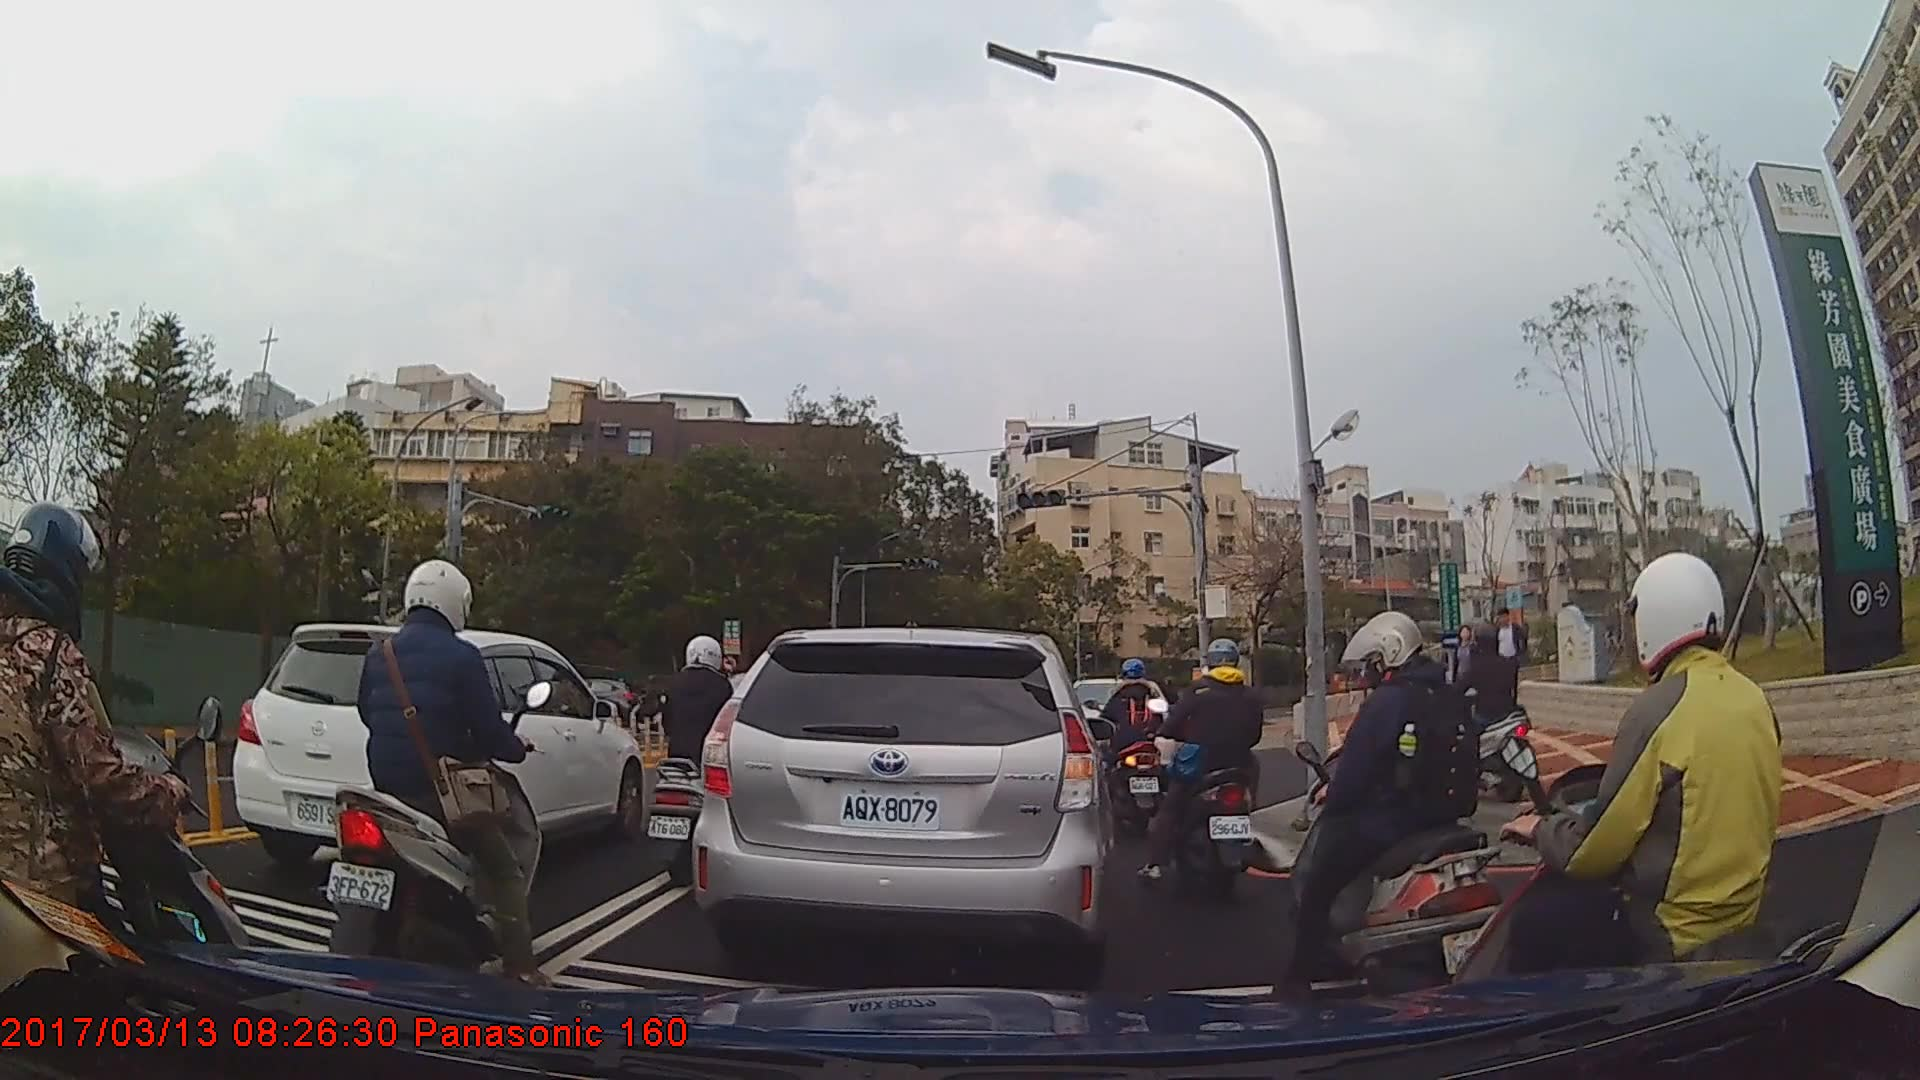pedestrian: (1486, 611, 1531, 725), (1450, 625, 1487, 727)
rider: (1445, 546, 1839, 1080), (1, 500, 258, 1050), (1269, 609, 1522, 1012), (315, 550, 542, 996), (1140, 642, 1269, 899), (643, 632, 766, 899), (1412, 628, 1536, 802), (1087, 656, 1173, 840)
vehicle: (685, 626, 1114, 979), (231, 621, 644, 879), (1060, 677, 1166, 786), (551, 677, 640, 725)
